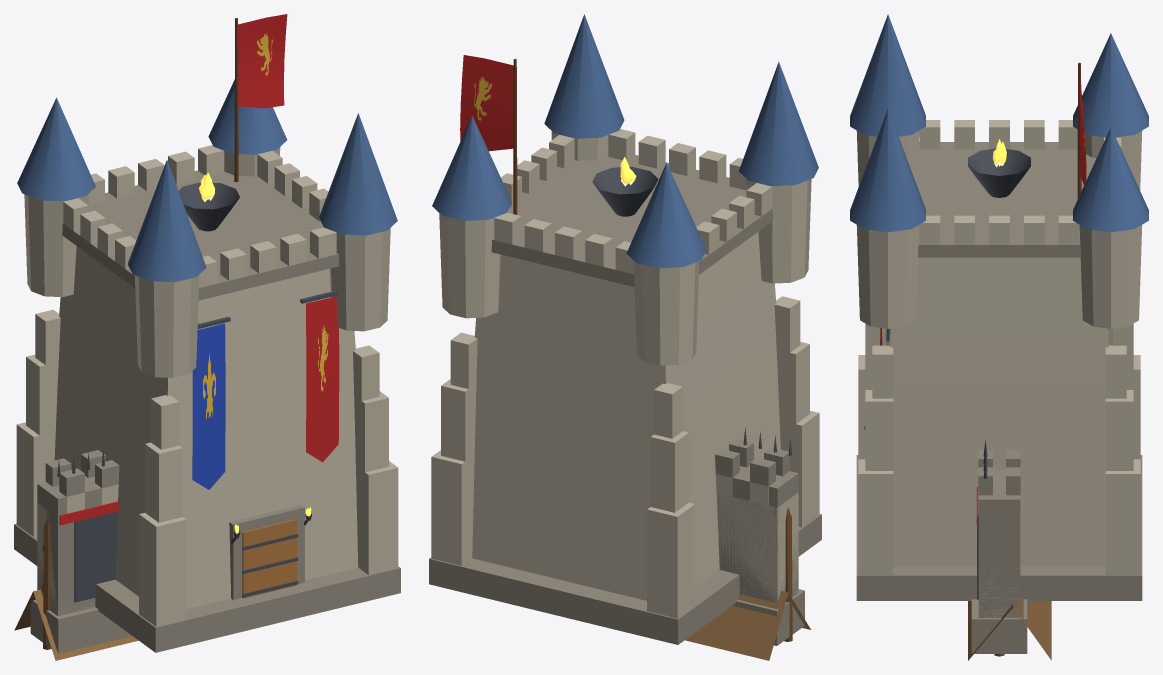
Rendered from ringhold_town.glb.
3 renders of one model, left to right at view 1: azimuth 30°, elevation 25°; view 2: azimuth 150°, elevation 25°; view 3: azimuth 270°, elevation 25°, orthographic.
Parts seen in each view (by area): view 1: keep_body, wall_iron_body, keep_banner, keep_brazier, wall_wood_body, wall_stone_body, keep_pole; view 2: keep_body, wall_iron_body, wall_stone_body, wall_wood_body, keep_banner, keep_brazier, keep_pole; view 3: keep_body, wall_iron_body, keep_brazier, wall_wood_body, keep_banner.
Part boxes in pixels (x1=…): keep_body: x1=14, y1=79, x2=400, y2=652; wall_iron_body: x1=30, y1=450, x2=131, y2=653; keep_banner: x1=238, y1=14, x2=287, y2=108; keep_brazier: x1=178, y1=182, x2=312, y2=543; wall_wood_body: x1=14, y1=517, x2=138, y2=660; wall_stone_body: x1=37, y1=484, x2=118, y2=615; keep_pole: x1=234, y1=18, x2=238, y2=182; keep_body: x1=429, y1=14, x2=821, y2=644; wall_iron_body: x1=715, y1=428, x2=804, y2=645; wall_stone_body: x1=715, y1=474, x2=798, y2=602; wall_wood_body: x1=685, y1=507, x2=810, y2=660; keep_banner: x1=460, y1=55, x2=513, y2=151; keep_brazier: x1=592, y1=166, x2=658, y2=216; keep_pole: x1=513, y1=58, x2=517, y2=214; keep_body: x1=850, y1=14, x2=1148, y2=600; wall_iron_body: x1=971, y1=439, x2=1027, y2=653; keep_brazier: x1=864, y1=148, x2=1030, y2=429; wall_wood_body: x1=968, y1=562, x2=1051, y2=660; keep_banner: x1=1079, y1=72, x2=1086, y2=190.
Bounding box in the file's own units: 11.2 × 17.4 × 8.59.
Materials: 21 (2 with a texture image).
